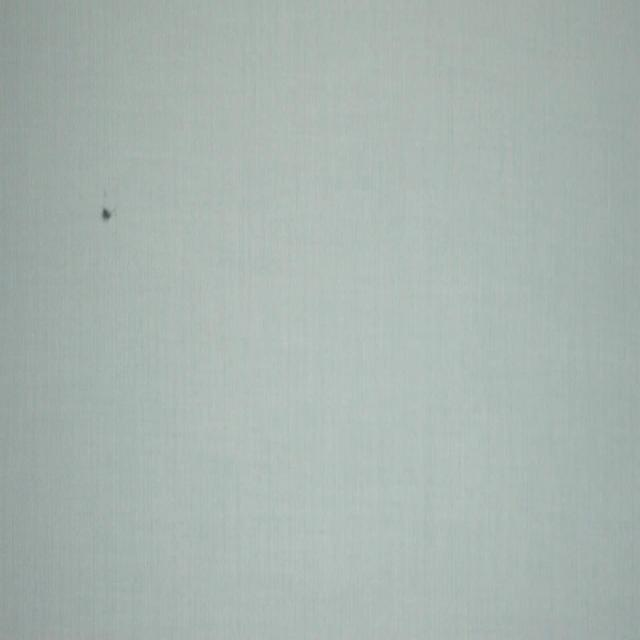dirty: (102, 208, 112, 220), (104, 191, 108, 199)
